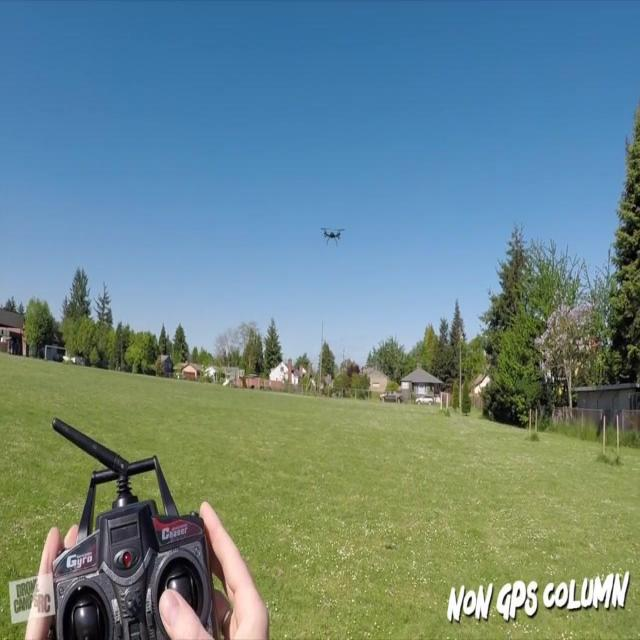UAV: (320, 228, 347, 248)
